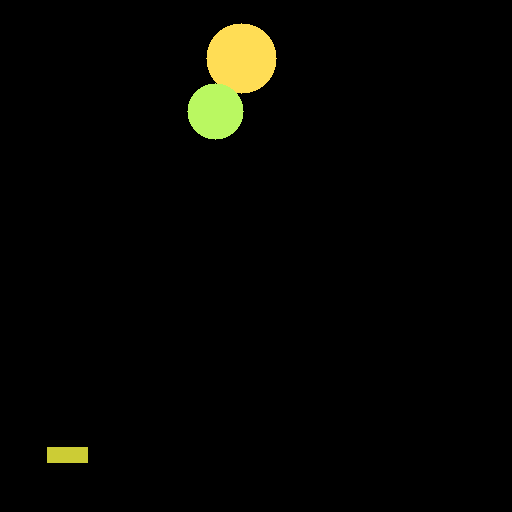circle: (201, 19, 280, 97), (184, 82, 246, 143)
side_rect: (41, 442, 93, 467)
